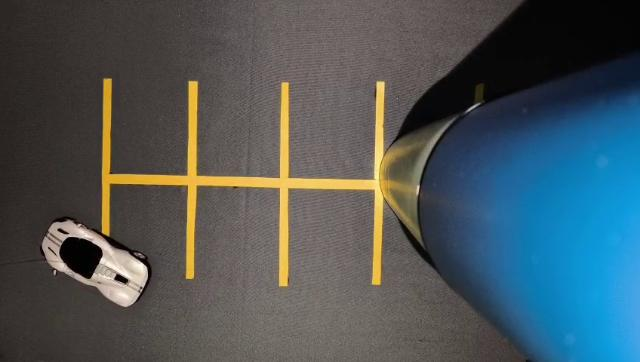toy_car: (26, 199, 196, 327)
